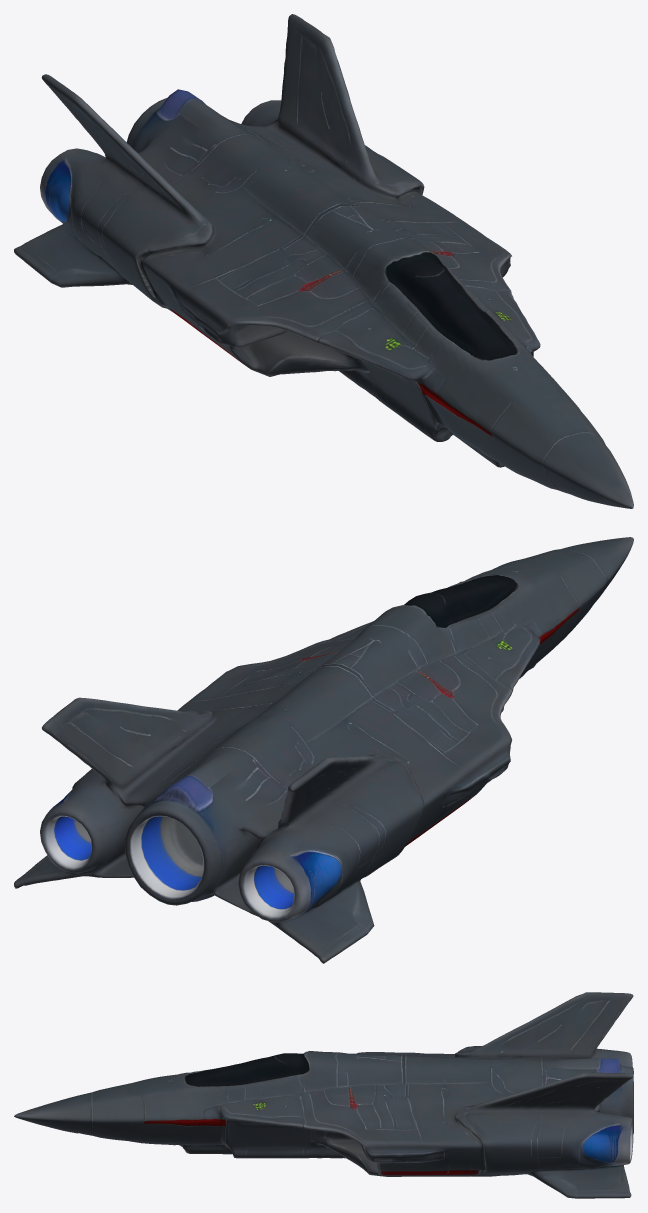
File: ship.glb
3 renders of one model, top to bottom at view 1: azimuth 30°, elevation 25°; view 2: azimuth 150°, elevation 25°; view 3: azimuth 270°, elevation 25°, orthographic. The views are drawn at different scales.
Parts seen in each view (by area): view 1: model; view 2: model; view 3: model.
Part boxes in pixels (box(x1,y1,x2,y2)): model: box(14, 14, 633, 508); model: box(14, 537, 633, 963); model: box(14, 992, 633, 1198).
Bounding box in the file's own units: 0.7466 × 0.4089 × 1.89.
Materials: 1 (1 with a texture image).
